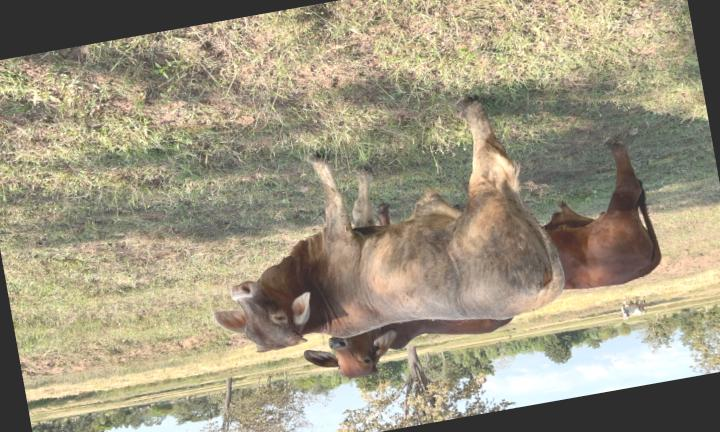Charolais: (214, 100, 565, 352)
